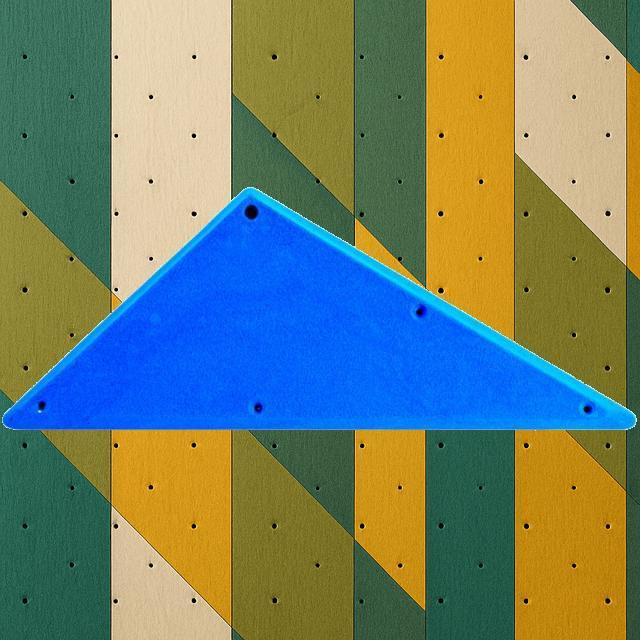Crimp: (2, 186, 634, 432)
